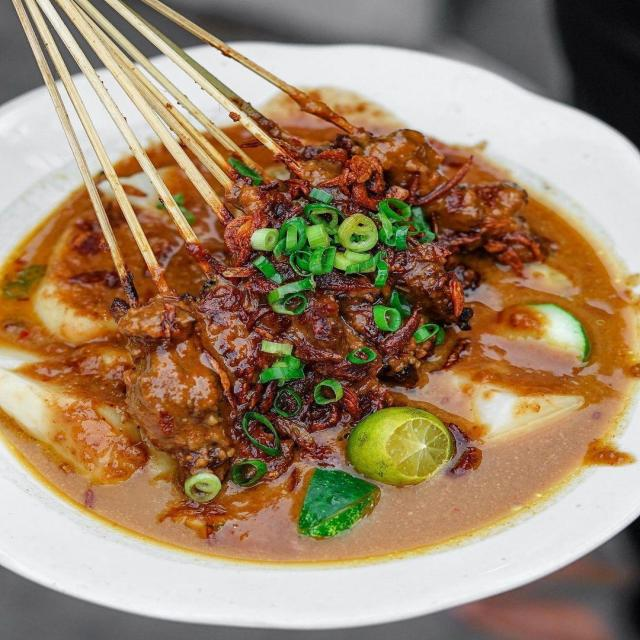Sate: (11, 15, 485, 423)
